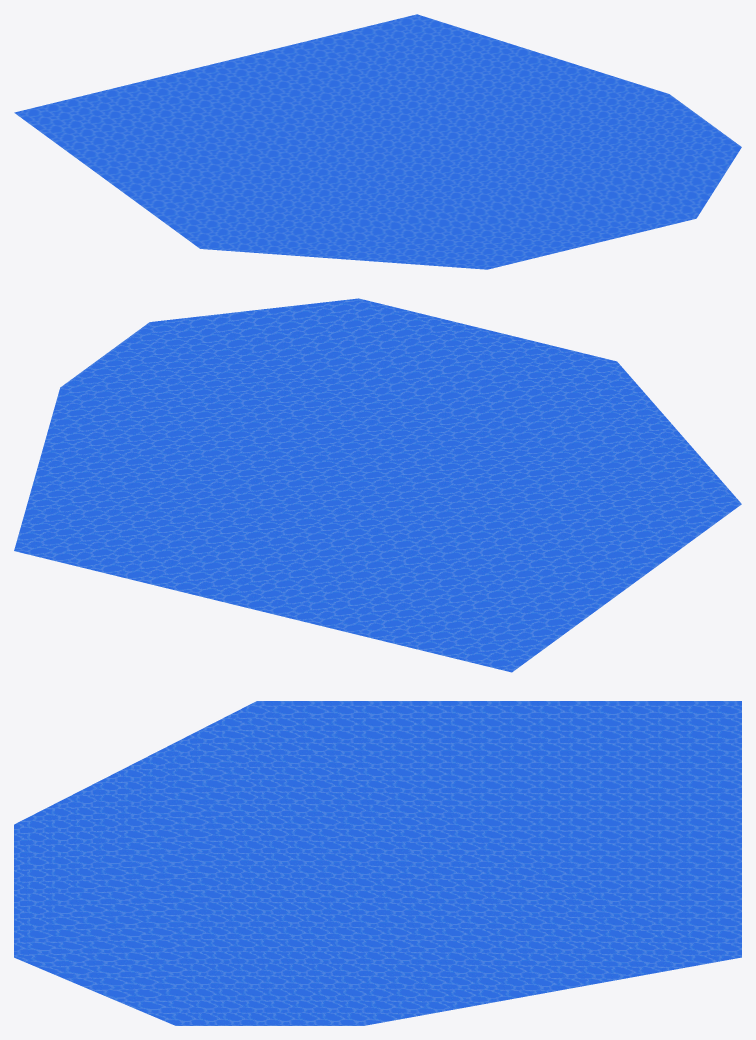
The model's file is mc_water.glb.
3 renders of one model, top to bottom at view 1: azimuth 30°, elevation 25°; view 2: azimuth 150°, elevation 25°; view 3: azimuth 270°, elevation 25°, orthographic. The views are drawn at different scales.
Parts seen in each view (by area): view 1: mc_water; view 2: mc_water; view 3: mc_water.
Boxes of the visible parts, bbox=[...] form: mc_water: bbox=[14, 14, 741, 269]; mc_water: bbox=[14, 298, 741, 672]; mc_water: bbox=[14, 701, 741, 1025].
Bounding box in the file's own units: 9.28 × 0 × 8.79.
Materials: 1 (1 with a texture image).
